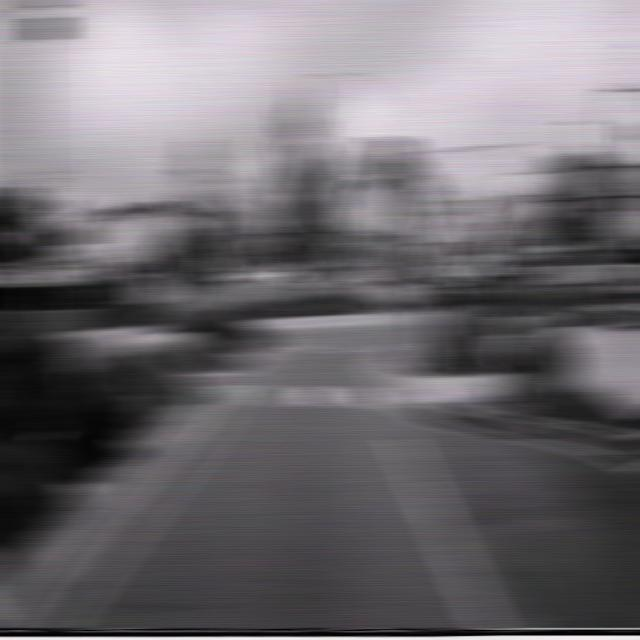pedestrianCrossing: (450, 174, 506, 254)
yield: (396, 212, 435, 255), (210, 174, 247, 212)
